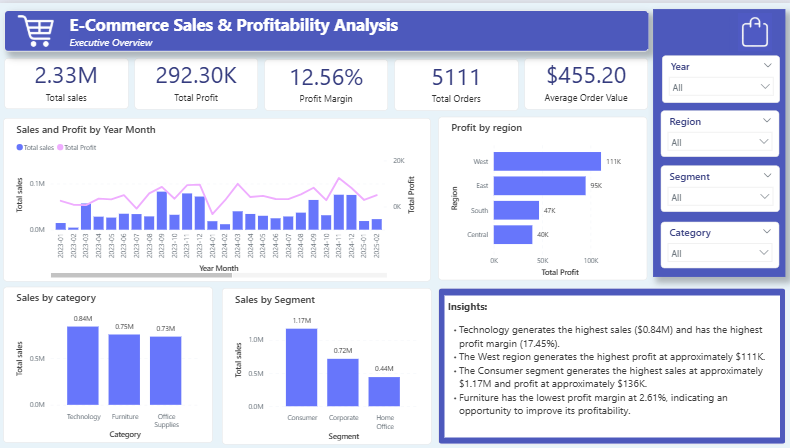

This screenshot's page, from the dashboard's own definition file:
{"tool":"powerbi","page":{"name":"Executive Overview","canvas":[1280,720],"ordinal":0},"visuals":[{"type":"card","fields":{"Values":["Orders.Total sales"]},"box":[11.2,88.8,198.2,81.8],"z":0},{"type":"card","fields":{"Values":["Orders.Total Profit"]},"box":[219.4,88.8,197.6,82.4],"z":1000},{"type":"card","fields":{"Values":["Orders.Profit Margin"]},"box":[427.6,89.4,197.6,82.4],"z":2000},{"type":"card","fields":{"Values":["Orders.Total Orders"]},"box":[635.3,89.4,198.2,82.4],"z":3000},{"type":"card","fields":{"Values":["Orders.Average Order Value"]},"box":[844.1,88.8,197.6,82.4],"z":4000},{"type":"lineClusteredColumnComboChart","title":"Sales and Profit by Year Month","fields":{"Y":["Orders.Total sales"],"Y2":["Orders.Total Profit"],"Category":["DateTable.Year Month"]},"box":[10.9,183.4,684.1,261.8],"z":5000},{"type":"clusteredColumnChart","title":"Sales by category","fields":{"Category":["Orders.category"],"Y":["Orders.Total sales"]},"box":[10.9,454.8,335.4,249.7],"z":6000},{"type":"clusteredBarChart","title":"Profit by region","fields":{"Category":["Orders.region"],"Y":["Orders.Total Profit"]},"box":[705.7,182.9,334.3,261.4],"z":7000},{"type":"clusteredColumnChart","title":"Sales by Segment","fields":{"Category":["Orders.segment"],"Y":["Orders.Total sales"]},"box":[360,455,335,250],"z":8000},{"type":"shape","box":[11.4,11.4,1030,65.7],"z":9000},{"type":"textbox","box":[115,15,926.2,57.5],"z":10000},{"type":"shape","box":[1050.8,10.9,211.1,428.3],"z":11000},{"type":"image","box":[17.7,15.4,87.7,57.7],"z":12000},{"type":"slicer","fields":{"Values":["DateTable.Year"]},"box":[1064.2,83.3,189.2,75.8],"z":13000},{"type":"slicer","fields":{"Values":["Orders.Region"]},"box":[1062.9,171.3,189.4,74.8],"z":14000},{"type":"slicer","fields":{"Values":["Orders.Segment"]},"box":[1062.9,259.4,190.6,74.8],"z":15000},{"type":"slicer","fields":{"Values":["Orders.Category"]},"box":[1062.9,349.9,189.4,74.8],"z":16000},{"type":"image","box":[1171.5,15.4,81.5,61.5],"z":17000},{"type":"shape","box":[706,456,556,250],"z":18000},{"type":"textbox","box":[715.7,467.1,537.1,227.1],"z":19000}]}

Visuals, with their boxes in screenshot pixels (x1, y1, x2, y2), scaled from the page's 1280x720 canvas onto the 790x448 screenshot:
card - Orders.Total sales: BBox(7, 55, 129, 106)
card - Orders.Total Profit: BBox(135, 55, 257, 107)
card - Orders.Profit Margin: BBox(264, 56, 386, 107)
card - Orders.Total Orders: BBox(392, 56, 514, 107)
card - Orders.Average Order Value: BBox(521, 55, 643, 107)
"Sales and Profit by Year Month" lineClusteredColumnComboChart: BBox(7, 114, 429, 277)
"Sales by category" clusteredColumnChart: BBox(7, 283, 214, 438)
"Profit by region" clusteredBarChart: BBox(436, 114, 642, 276)
"Sales by Segment" clusteredColumnChart: BBox(222, 283, 429, 439)
shape: BBox(7, 7, 643, 48)
textbox: BBox(71, 9, 643, 45)
shape: BBox(649, 7, 779, 273)
image: BBox(11, 10, 65, 45)
slicer - DateTable.Year: BBox(657, 52, 774, 99)
slicer - Orders.Region: BBox(656, 107, 773, 153)
slicer - Orders.Segment: BBox(656, 161, 774, 208)
slicer - Orders.Category: BBox(656, 218, 773, 264)
image: BBox(723, 10, 773, 48)
shape: BBox(436, 284, 779, 439)
textbox: BBox(442, 291, 773, 432)
